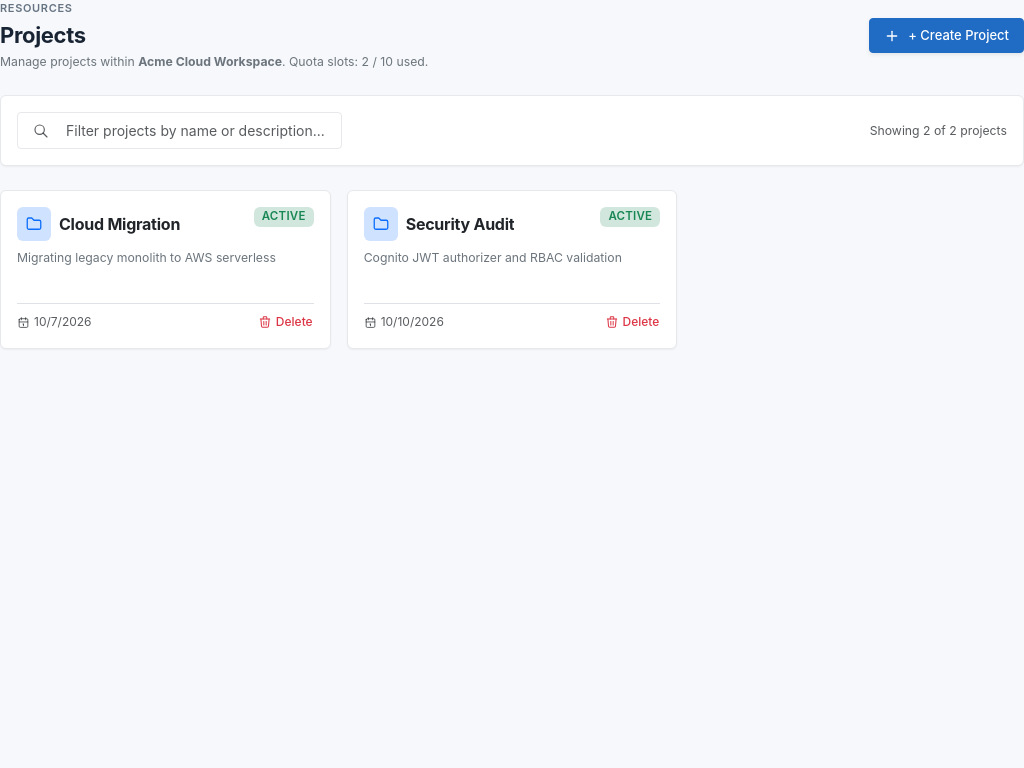
Test: Frontend Workspace Integration & Modals (Phase 10) › renders projects and creates a new project via modal
The width and height of the screenshot is (1024, 768).
expect the heading "Projects" is shown: met, box [0,22,86,48]
# Click "+ Create Project" button
Click the button "+ Create Project" at (947, 36), box [869,18,1023,54]
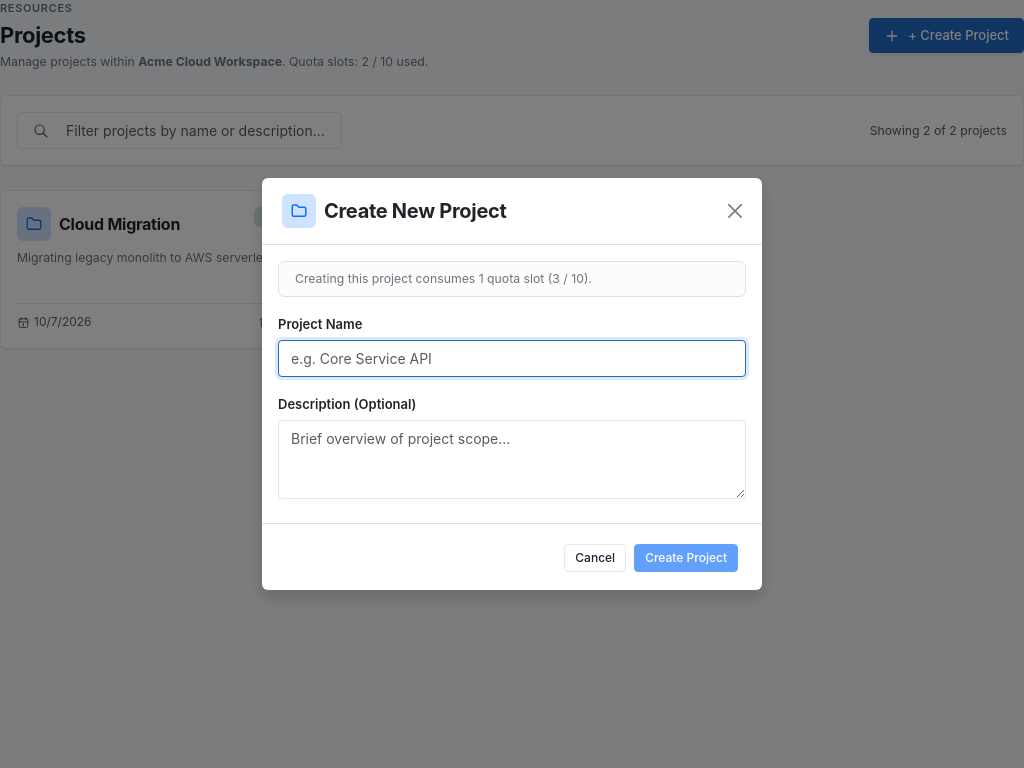
expect the heading "Create New Project" is shown: met, box [324,196,506,226]
# Fill in project form
Type "Frontend Payment Gateway" into the field with placeholder "e.g. Core Service API" at (512, 359), box [278,340,746,377]
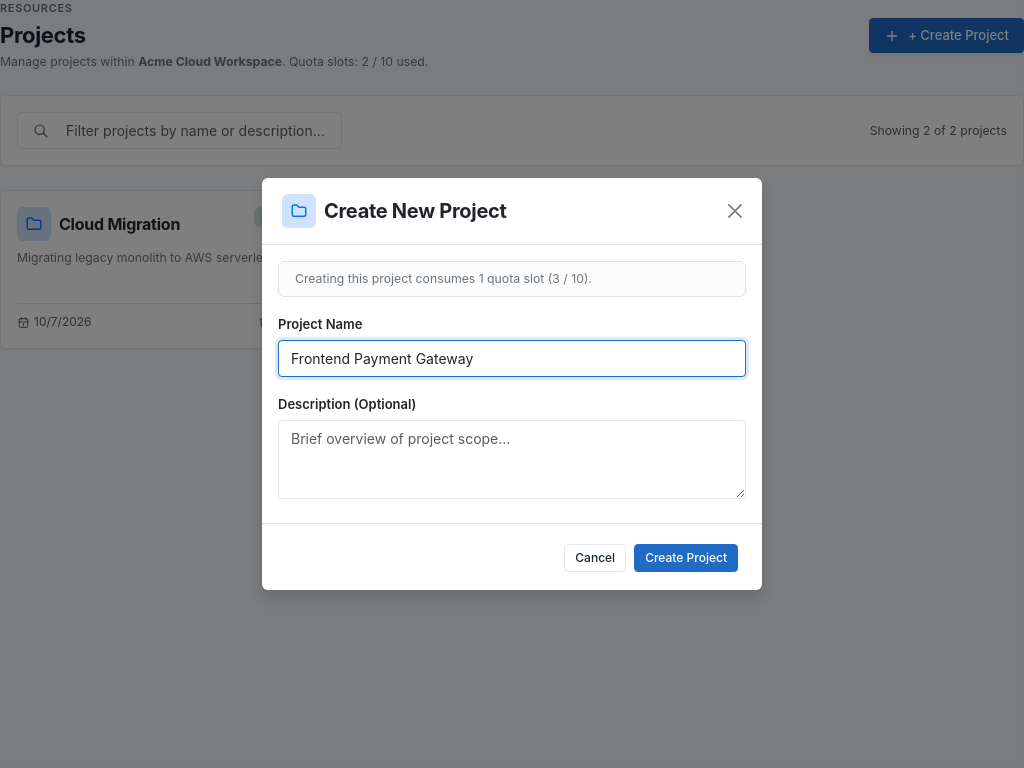
# Submit form
Click the button "Create Project" at (686, 558), box [634,544,738,572]
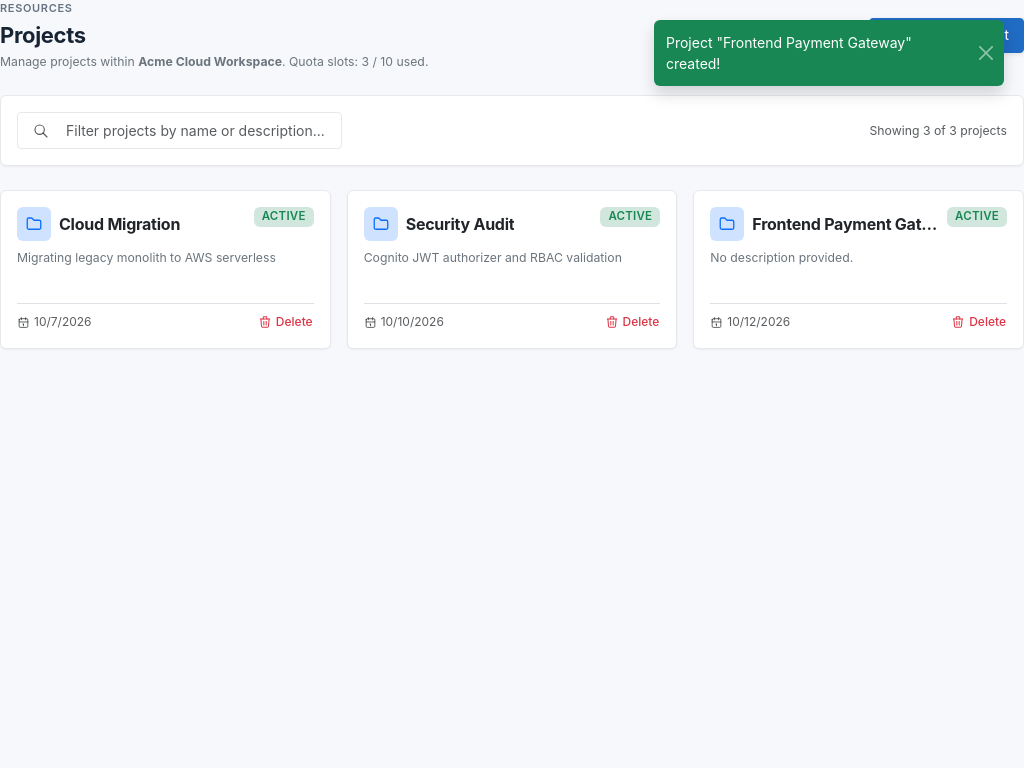
expect the heading "Frontend Payment Gateway" is shown: met, box [752,215,939,234]
